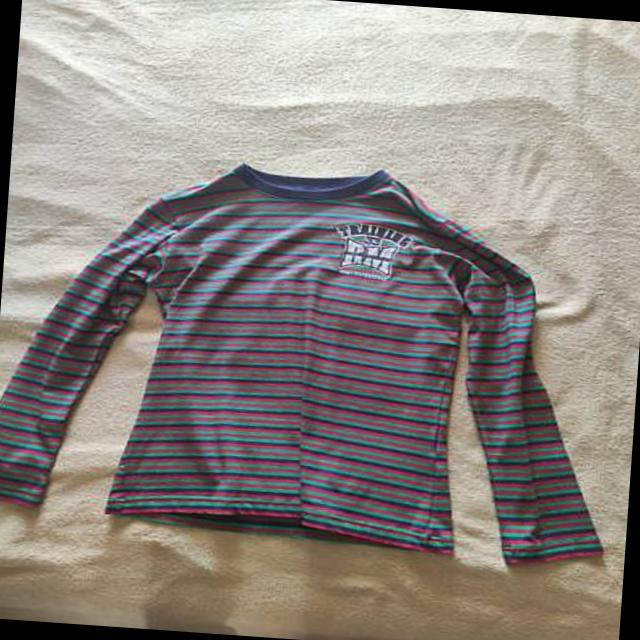SHIRT: (0, 131, 640, 584)
